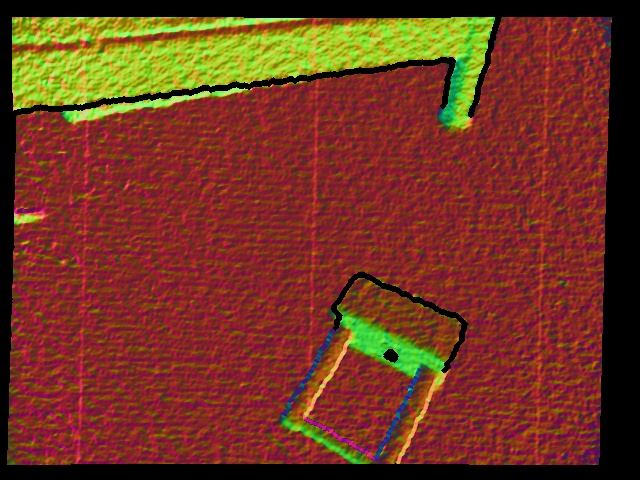station: (281, 276, 481, 466)
